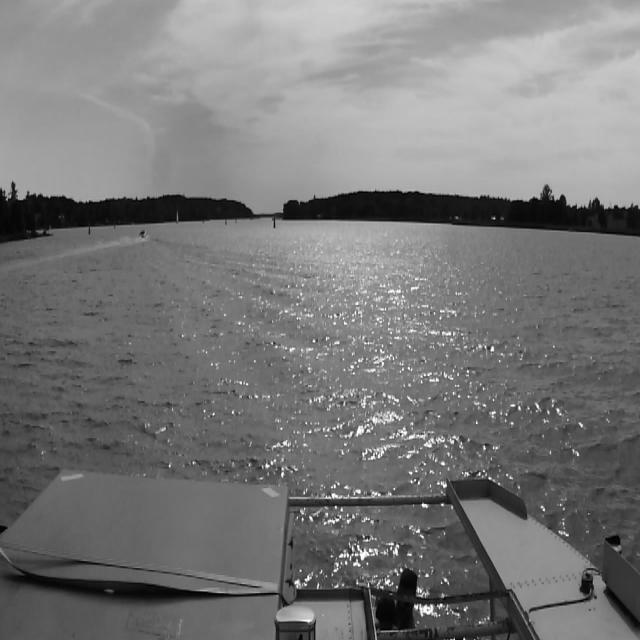buoy: (272, 212, 276, 230), (88, 220, 91, 238), (234, 213, 238, 225), (249, 212, 253, 222), (202, 214, 205, 226), (225, 214, 228, 226), (113, 219, 116, 230)
ship: (136, 226, 148, 242), (175, 210, 181, 225)
